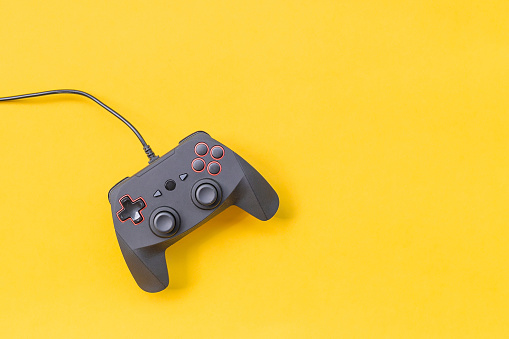controller: (107, 130, 280, 293)
